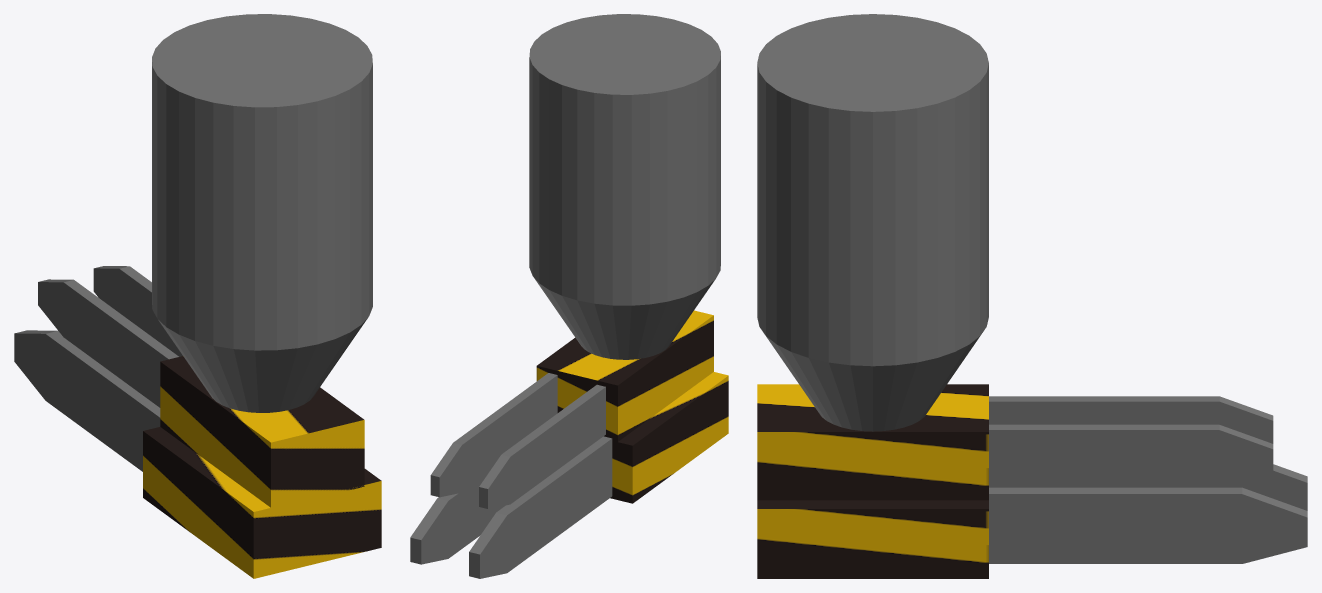
Rendered from bossdronet.gltf.
3 views of the same model, side by side, from view 1: azimuth 30°, elevation 25°; view 2: azimuth 150°, elevation 25°; view 3: azimuth 270°, elevation 25° (orthographic). The views are drawn at different scales.
Parts seen in each view (by area): view 1: hardpoint, magazine2, magazine, taser, taser2; view 2: hardpoint, taser2, taser, magazine, magazine2; view 3: hardpoint, taser, taser2, magazine, magazine2.
Part boxes in pixels (x1,y1,x2,y2): hardpoint: (152, 14, 372, 412); magazine2: (143, 427, 381, 578); magazine: (160, 356, 364, 509); taser: (38, 266, 182, 407); taser2: (14, 330, 160, 471); hardpoint: (529, 14, 720, 359); taser2: (410, 436, 612, 578); taser: (430, 373, 605, 508); magazine: (536, 310, 713, 443); magazine2: (610, 372, 728, 503); hardpoint: (757, 14, 988, 431); taser: (989, 396, 1273, 487); taser2: (989, 464, 1307, 563); magazine: (757, 384, 988, 500); magazine2: (757, 500, 988, 578).
Bounding box in the file's own units: 2.69 × 6.18 × 6.38.
4 materials, 2 textured.
